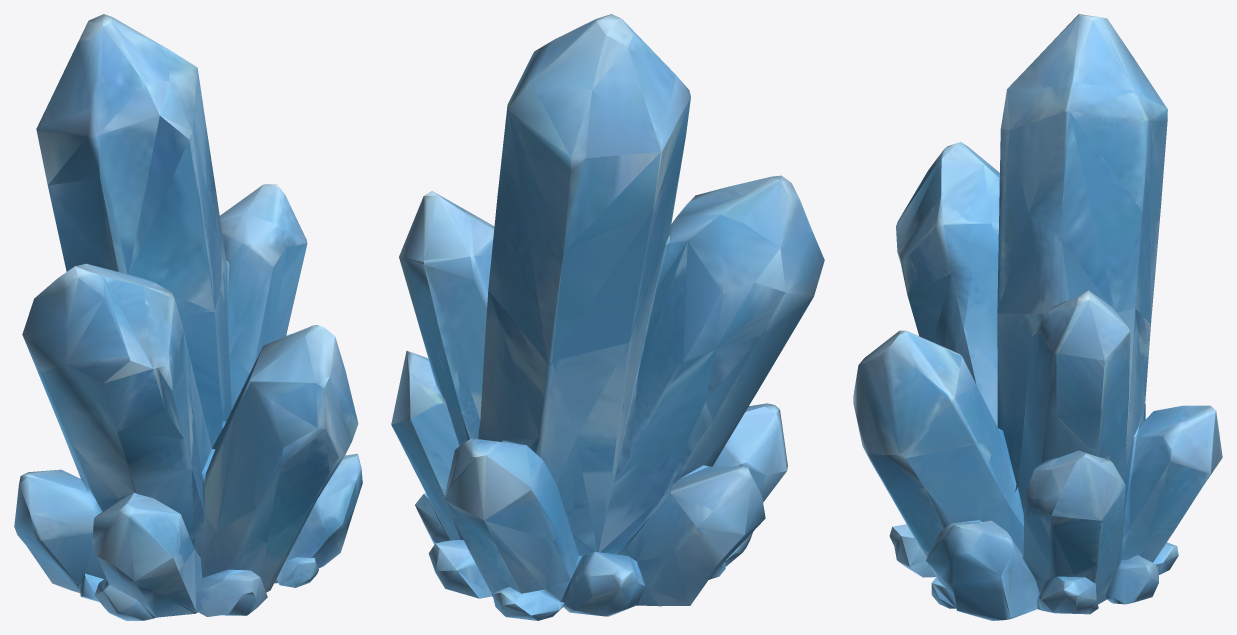
Rendered from racimo_hielo_g.glb.
3 renders of one model, left to right at view 1: azimuth 30°, elevation 25°; view 2: azimuth 150°, elevation 25°; view 3: azimuth 270°, elevation 25°, orthographic. The views are drawn at different scales.
Parts seen in each view (by area): view 1: racimo_hielo_g_malla; view 2: racimo_hielo_g_malla; view 3: racimo_hielo_g_malla.
Boxes of the visible parts, x1=… form: racimo_hielo_g_malla: x1=14, y1=14, x2=362, y2=620; racimo_hielo_g_malla: x1=391, y1=14, x2=824, y2=620; racimo_hielo_g_malla: x1=853, y1=14, x2=1222, y2=620.
Size of the model in its own units: 0.1912 by 0.3053 by 0.1931.
1 material, 1 textured.
